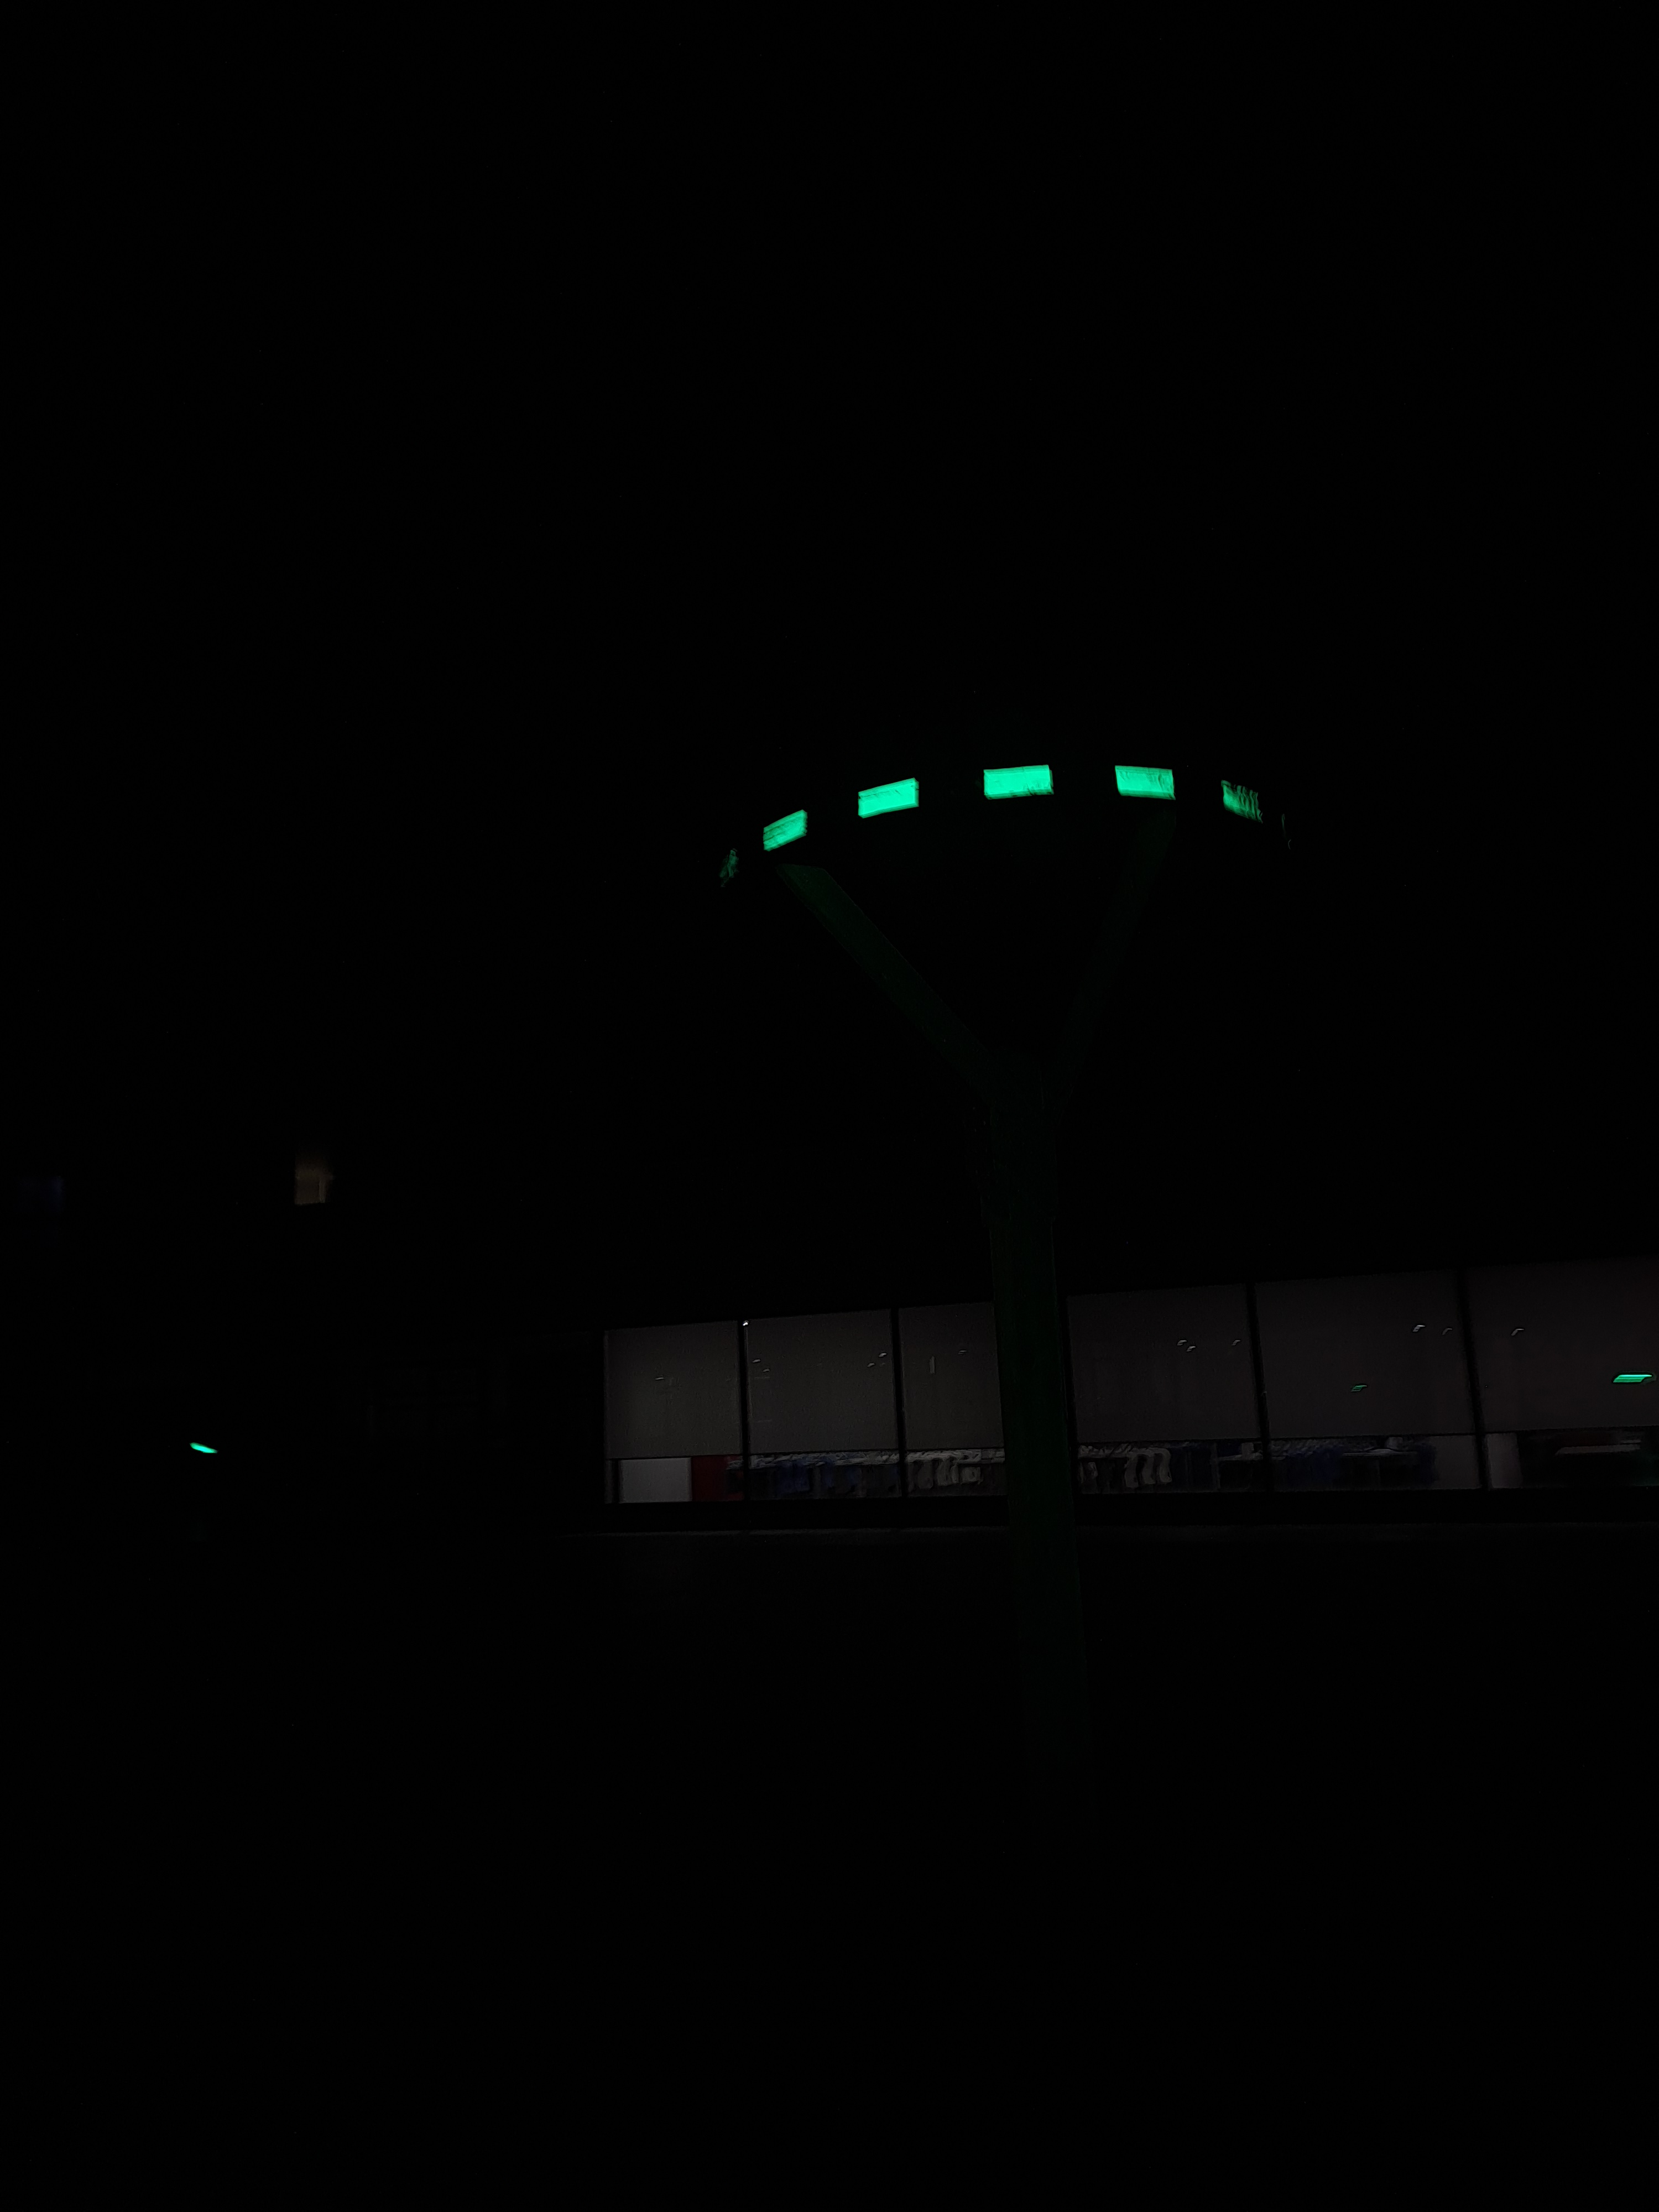hoop: (748, 759, 1272, 848)
